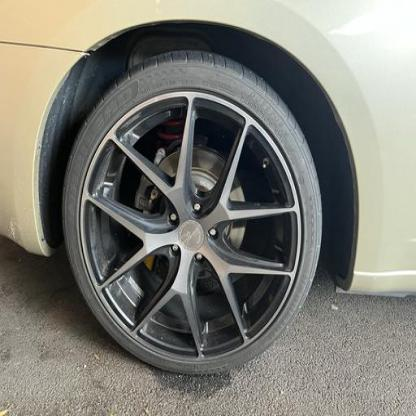Tire: (58, 48, 324, 377)
